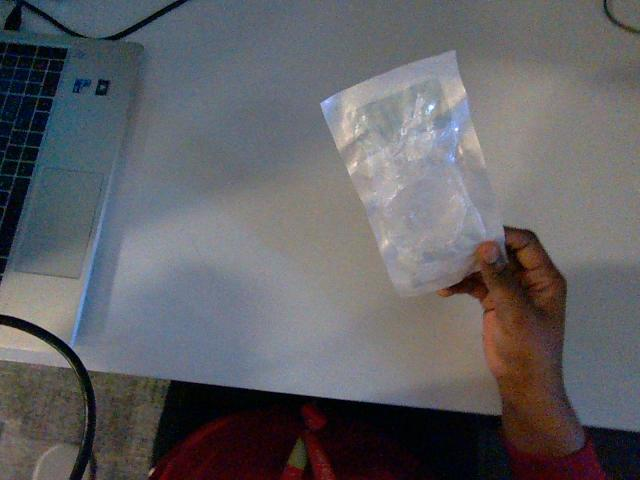gallipot: (322, 52, 503, 295)
